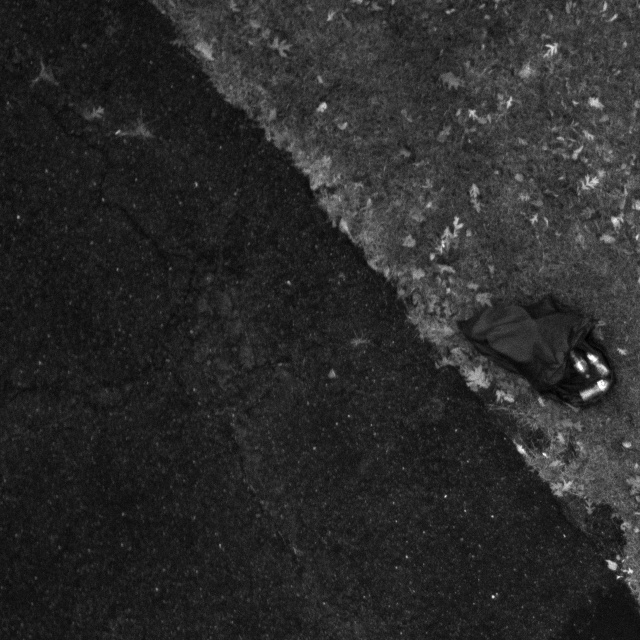bottle: (573, 373, 623, 408)
